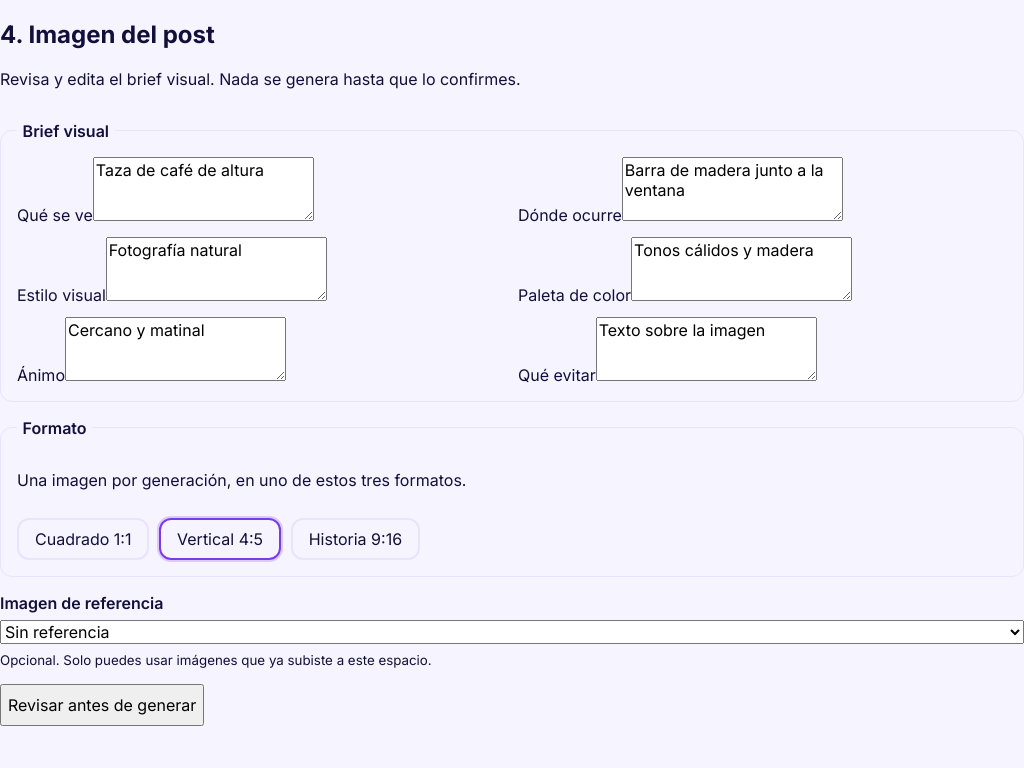
Scenario: ImageGenerationStep › an empty avoid field says so instead of showing a blank approval
Step 1. Click the button "Revisar antes de generar" → click(102, 705), box [0, 684, 204, 726]
(page scrolled)
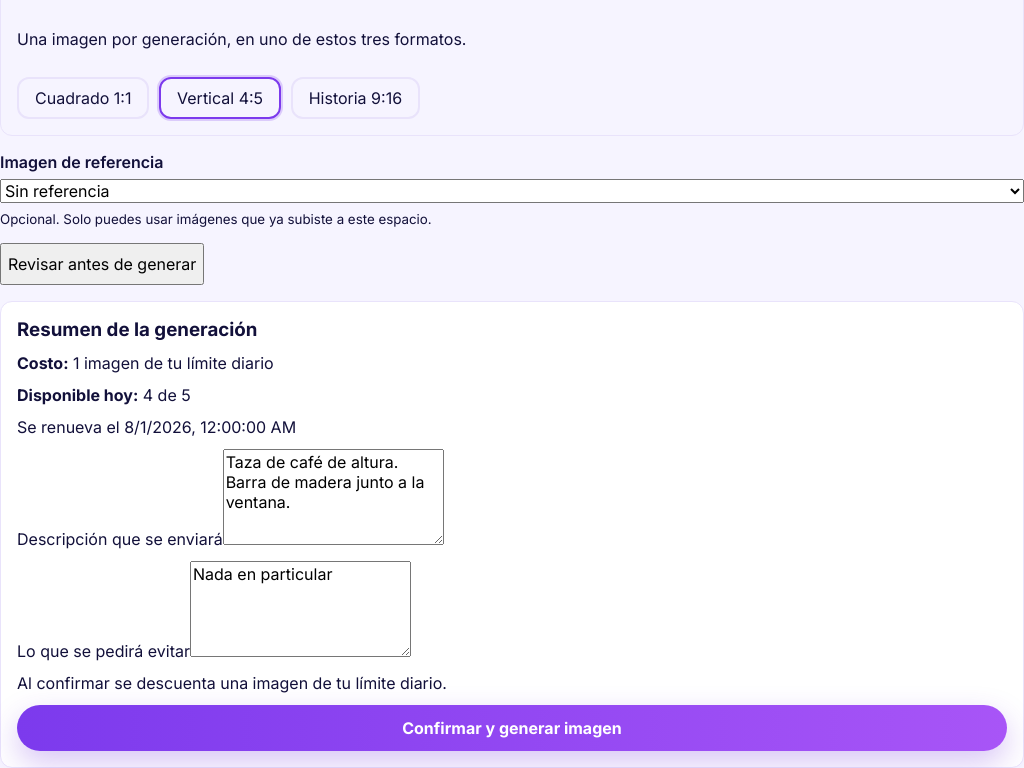
Expected: the button "Confirmar y generar imagen" is shown, [17, 705, 1007, 751]
Expected: the text box labelled "Lo que se pedirá evitar" holds "Nada en particular", [190, 561, 411, 657]
